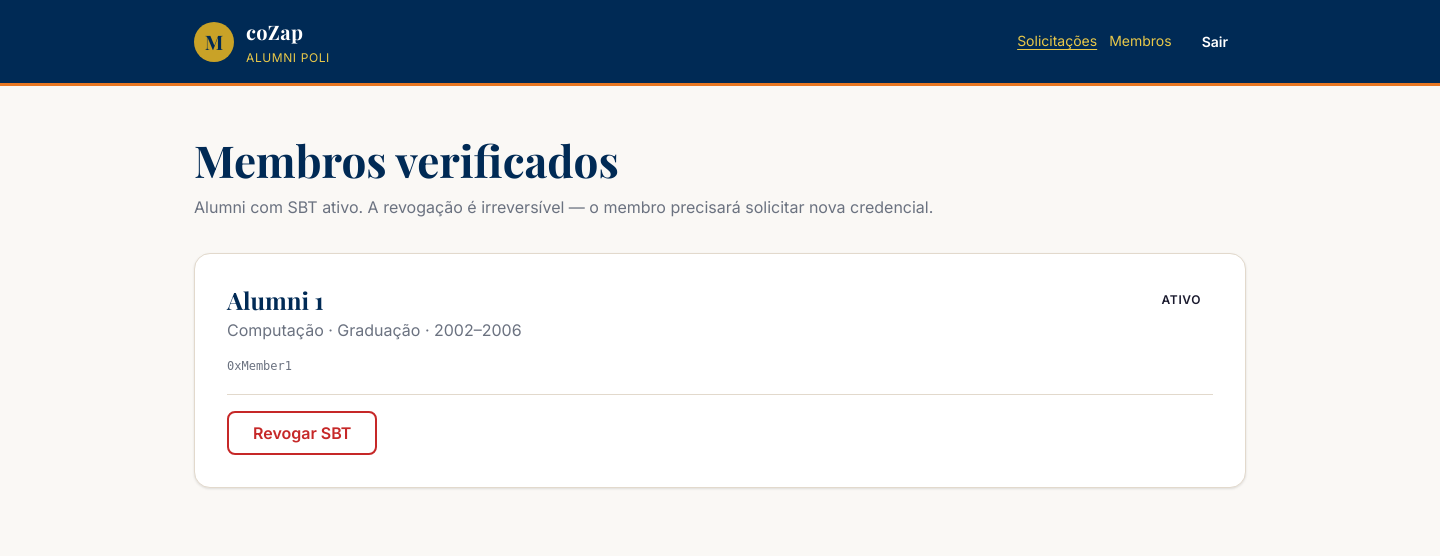
MembrosPage › clique em Revogar SBT abre confirmação inline
Expected: the heading "Alumni 1" is shown, [227,284,324,316]
Step 1. Click the button "Revogar SBT" → (302, 433), box [227,411,377,455]
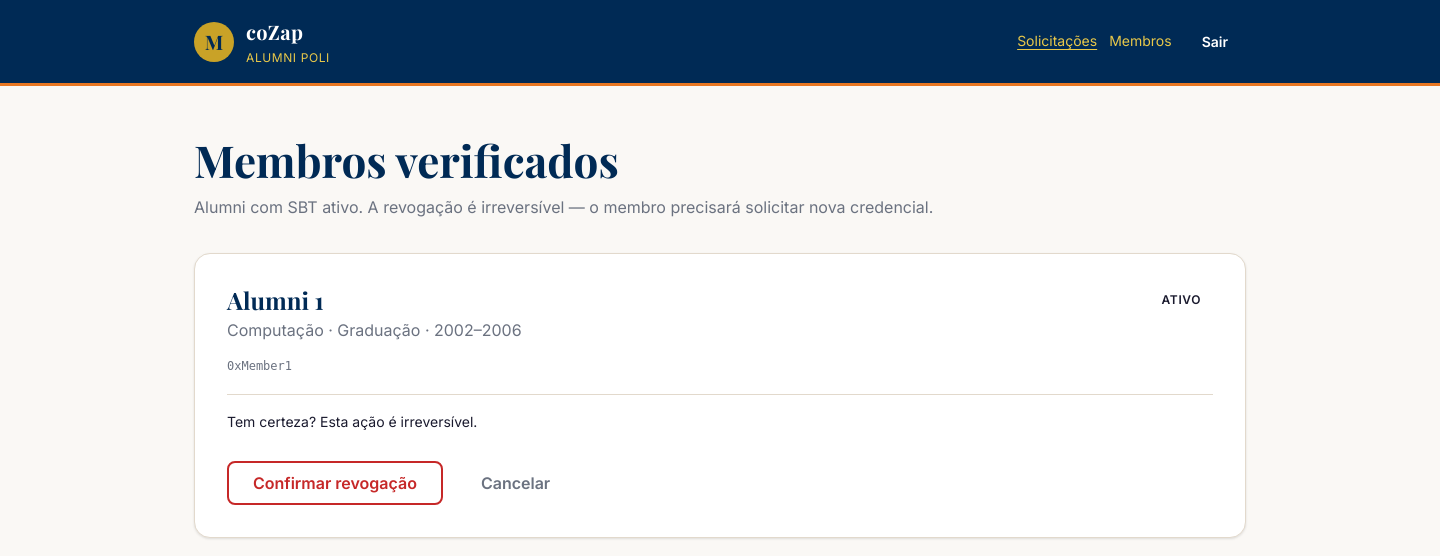
Now the button "Confirmar revogação" is shown, box [227,461,443,505]
